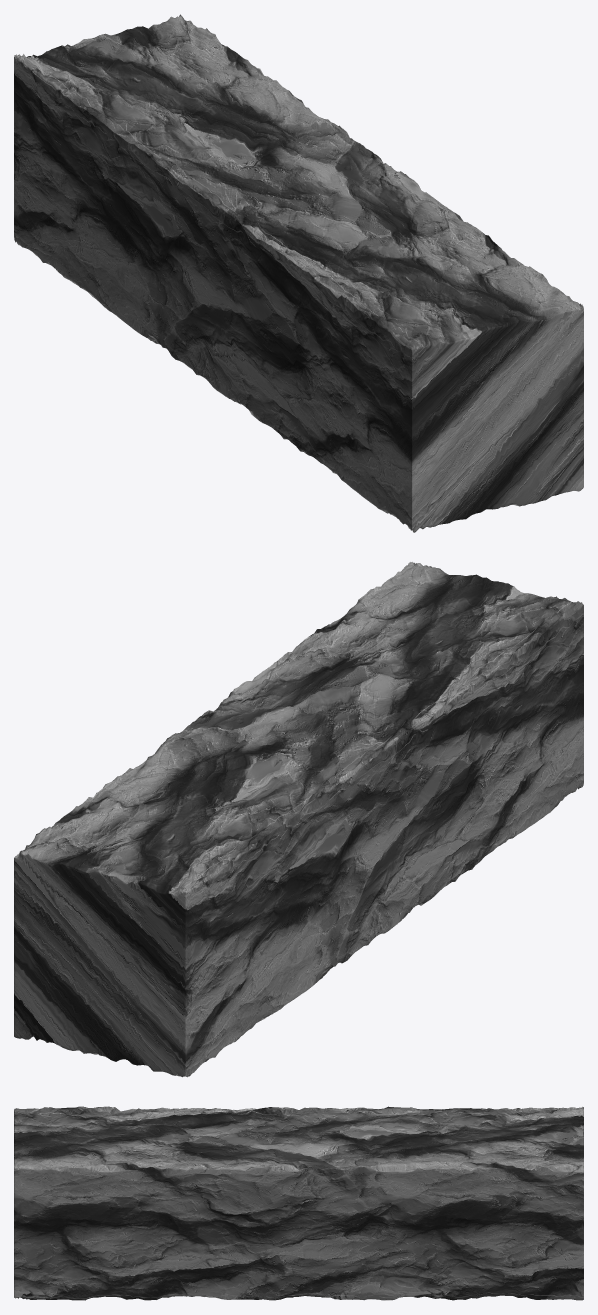
File: Wall_TextureProjected.fbx
3 views of the same model, one above another, from view 1: azimuth 30°, elevation 25°; view 2: azimuth 150°, elevation 25°; view 3: azimuth 270°, elevation 25° (orthographic). The views are drawn at different scales.
Visible parts, largest first — view 1: pCube2; view 2: pCube2; view 3: pCube2.
Part boxes in pixels (x1=…): pCube2: x1=14, y1=14, x2=583, y2=532; pCube2: x1=14, y1=562, x2=583, y2=1077; pCube2: x1=14, y1=1106, x2=583, y2=1300.
Bounding box in the file's own units: 14 × 14.69 × 56.
